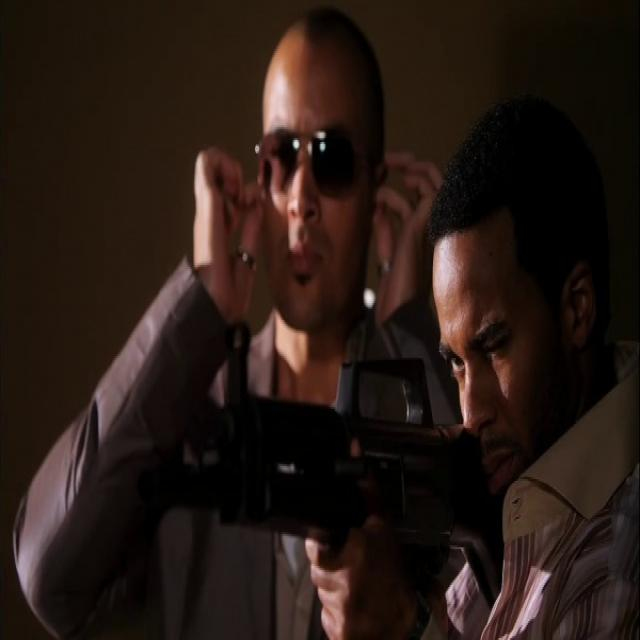rifle: (165, 317, 506, 593)
